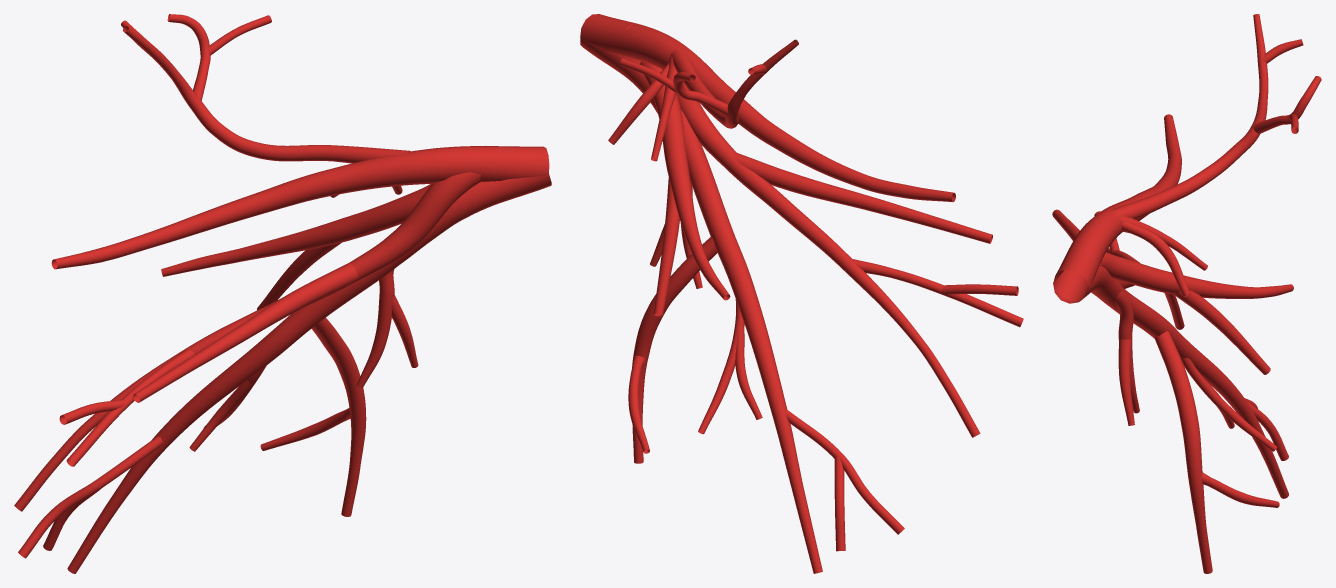
Rendered from circulatorio-right-inferior-pulmonary-vein.glb.
3 views of the same model, side by side, from view 1: azimuth 30°, elevation 25°; view 2: azimuth 150°, elevation 25°; view 3: azimuth 270°, elevation 25° (orthographic). The views are drawn at different scales.
Visible parts, largest first — view 1: Superior basal vein of right lung, Inferior basal vein of right lung, Superior vein of right lung, Right inferior pulmonary vein; view 2: Superior basal vein of right lung, Inferior basal vein of right lung, Superior vein of right lung, Right inferior pulmonary vein; view 3: Inferior basal vein of right lung, Superior vein of right lung, Superior basal vein of right lung, Right inferior pulmonary vein.
Boxes of the visible parts, left/top/right/bottom form: Superior basal vein of right lung: left=14, top=146, right=492, bottom=511; Inferior basal vein of right lung: left=18, top=199, right=467, bottom=573; Superior vein of right lung: left=51, top=14, right=439, bottom=269; Right inferior pulmonary vein: left=436, top=146, right=551, bottom=216; Superior basal vein of right lung: left=623, top=23, right=1023, bottom=437; Inferior basal vein of right lung: left=628, top=78, right=904, bottom=573; Superior vein of right lung: left=608, top=37, right=955, bottom=201; Right inferior pulmonary vein: left=580, top=14, right=671, bottom=89; Inferior basal vein of right lung: left=1091, top=269, right=1288, bottom=573; Superior vein of right lung: left=1086, top=14, right=1321, bottom=296; Superior basal vein of right lung: left=1052, top=209, right=1293, bottom=374; Right inferior pulmonary vein: left=1053, top=218, right=1114, bottom=303.
Size of the model in its own units: 0.1081 by 0.1189 by 0.0579.
